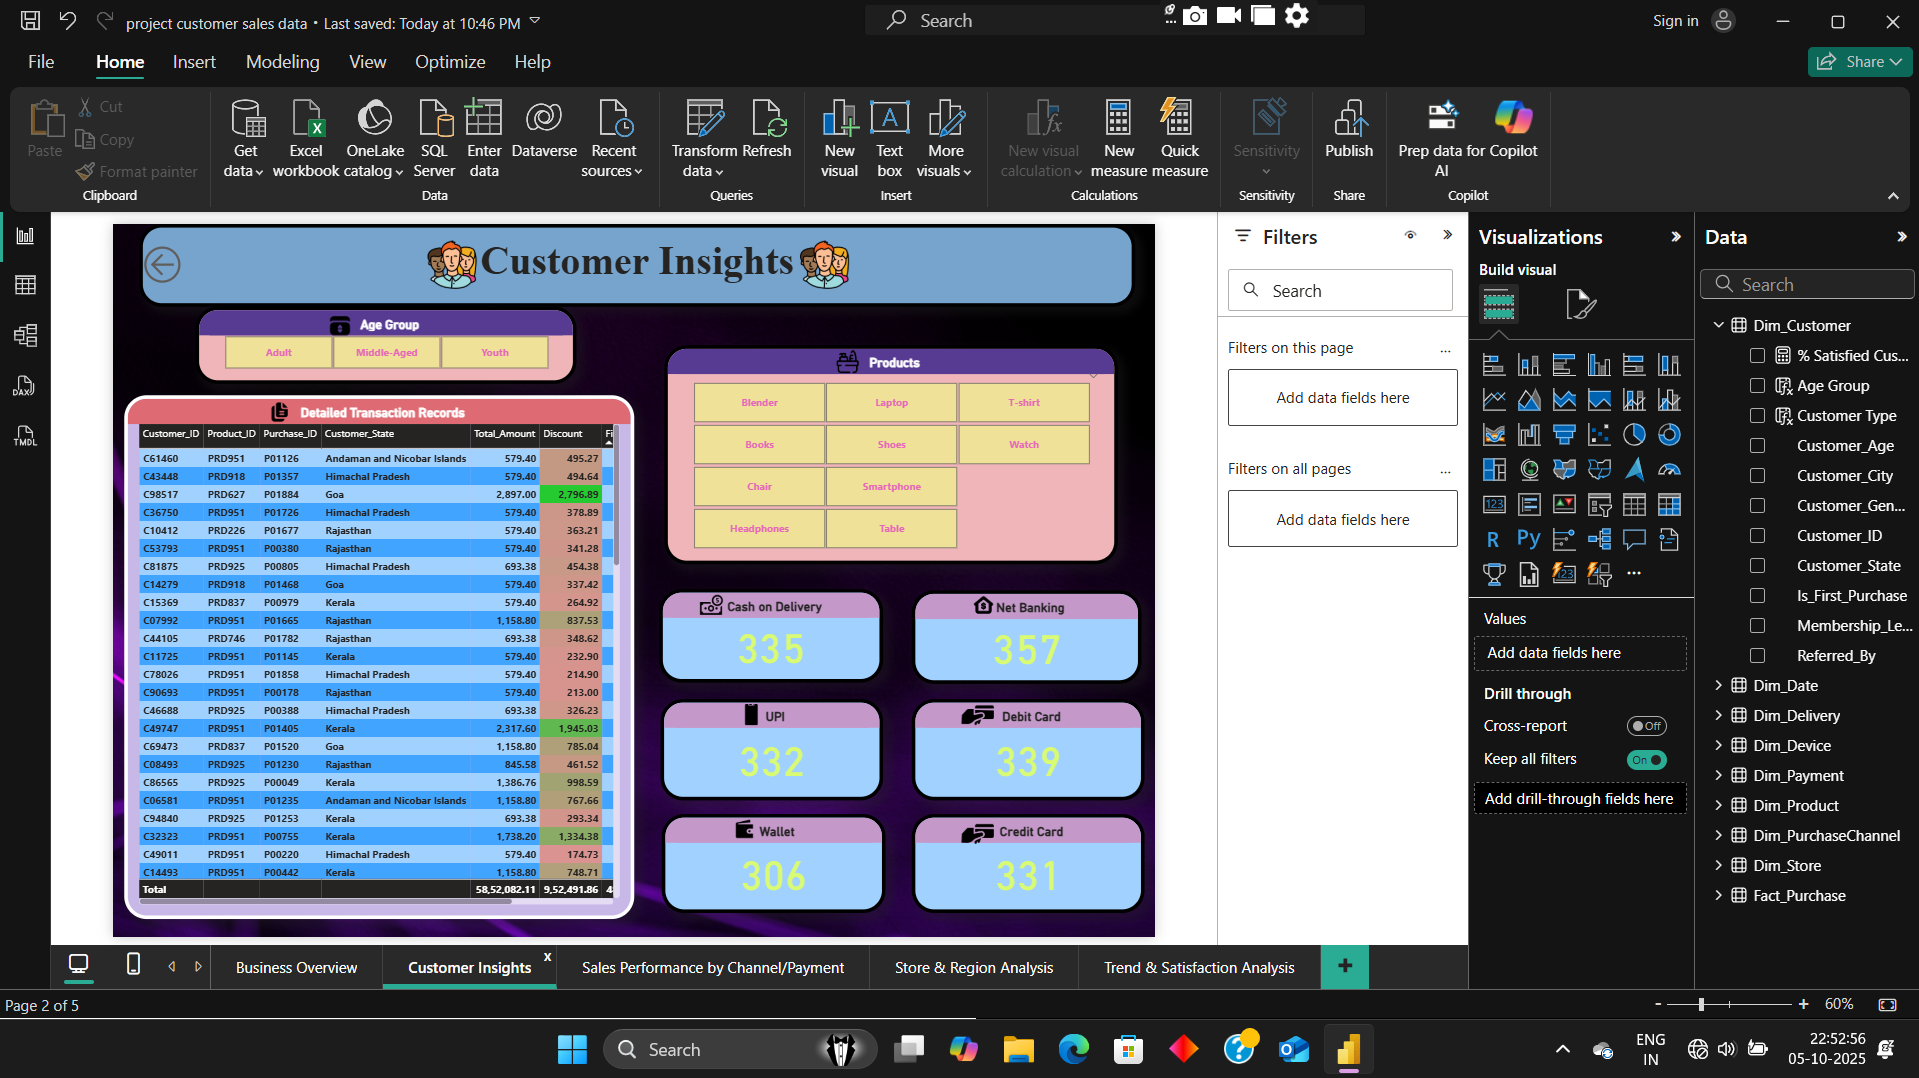

What the dashboard file says about the page in this screenshot:
{"tool":"powerbi","page":{"name":"Customer Insights","canvas":[1390,950],"ordinal":1},"visuals":[{"type":"textbox","box":[35,0,1328.3,110],"z":0},{"type":"card","title":"UPI","fields":{"Values":["Dim_Payment.UPI Transactions"]},"box":[730,633.3,296.7,135],"z":1000},{"type":"card","title":"Credit Card","fields":{"Values":["Dim_Payment.CB Transactions"]},"box":[1065,786.7,310,131.7],"z":2000},{"type":"card","title":"Debit Card","fields":{"Values":["Dim_Payment.DB Transactions"]},"box":[1065,633.3,310,135],"z":3000},{"type":"card","title":"Wallet","fields":{"Values":["Dim_Payment.wallet Transactions"]},"box":[731.7,786.7,298.3,131.7],"z":4000},{"type":"card","title":"Net Banking","fields":{"Values":["Dim_Payment.NB Transactions"]},"box":[1065,488.3,306.7,125],"z":5000},{"type":"card","title":"Cash on Delivery","fields":{"Values":["Dim_Payment.COD Transactions"]},"box":[728.3,486.7,298.3,125],"z":6000},{"type":"tableEx","title":"Detailed Transaction Records","fields":{"Values":["Dim_Customer.Customer_ID","Fact_Purchase.Product_ID","Fact_Purchase.Purchase_ID","Dim_Customer.Customer_State","Sum(Fact_Purchase.Total_Amount)","Sum(Fact_Purchase.Discount_Amount)","Sum(Fact_Purchase.Final_Amount)","Fact_Purchase.Rating_Review"]},"box":[20,251.7,680,698.3],"z":7000},{"type":"slicer","title":"Age Group","fields":{"Values":["Dim_Customer.Age Group"]},"box":[110,110,508.3,103.3],"z":8000},{"type":"slicer","title":"Products","fields":{"Values":["Dim_Product.Product_Name"]},"box":[735,161.7,605,291.7],"z":9000},{"type":"actionButton","box":[35,23.3,61.7,61.7],"z":10000},{"type":"image","box":[266.7,110,71.7,51.7],"z":11000},{"type":"image","box":[195,228.3,55,45],"z":12000},{"type":"image","box":[948.3,161.7,61.7,43.3],"z":13000},{"type":"image","box":[775,486.7,45,43.3],"z":14000},{"type":"image","box":[1138.3,483.3,45,51.7],"z":15000},{"type":"image","box":[820,633.3,61.7,41.7],"z":16000},{"type":"image","box":[1121.7,628.3,61.7,53.3],"z":17000},{"type":"image","box":[1121.7,786.7,61.7,53.3],"z":18000},{"type":"image","box":[820,786.7,45,40],"z":19000},{"type":"image","box":[411.7,13.3,81.7,83.3],"z":20000},{"type":"image","box":[908.3,13.3,81.7,83.3],"z":21000}]}

Visuals, with their boxes on the page's 1390x950 design canvas (x1, y1, x2, y2). These are canvas units, not pixel positions in the 1919x1078 screenshot, which may show the page scaled, cropped or inside an application window:
textbox: Rect(35, 0, 1363, 110)
"UPI" card: Rect(730, 633, 1027, 768)
"Credit Card" card: Rect(1065, 787, 1375, 918)
"Debit Card" card: Rect(1065, 633, 1375, 768)
"Wallet" card: Rect(732, 787, 1030, 918)
"Net Banking" card: Rect(1065, 488, 1372, 613)
"Cash on Delivery" card: Rect(728, 487, 1027, 612)
"Detailed Transaction Records" tableEx: Rect(20, 252, 700, 950)
"Age Group" slicer: Rect(110, 110, 618, 213)
"Products" slicer: Rect(735, 162, 1340, 453)
actionButton: Rect(35, 23, 97, 85)
image: Rect(267, 110, 338, 162)
image: Rect(195, 228, 250, 273)
image: Rect(948, 162, 1010, 205)
image: Rect(775, 487, 820, 530)
image: Rect(1138, 483, 1183, 535)
image: Rect(820, 633, 882, 675)
image: Rect(1122, 628, 1183, 682)
image: Rect(1122, 787, 1183, 840)
image: Rect(820, 787, 865, 827)
image: Rect(412, 13, 493, 97)
image: Rect(908, 13, 990, 97)
